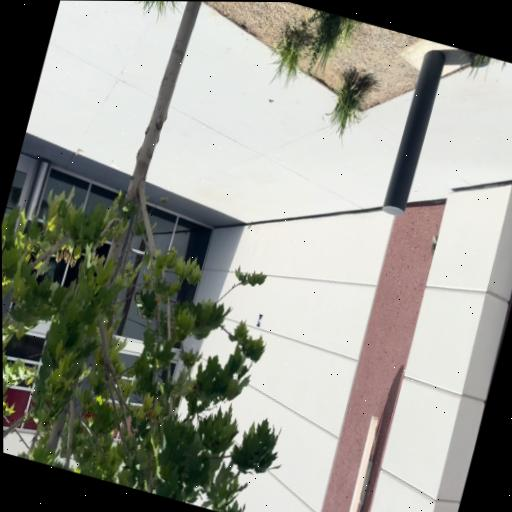target7: (255, 313, 263, 327)
